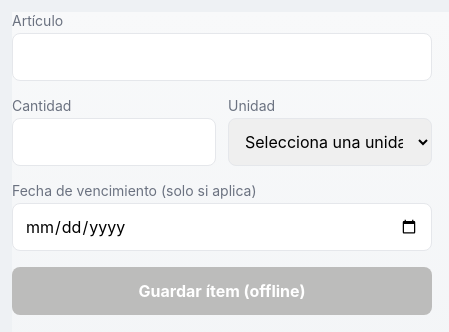
Test: ManualEntryForm › submit button is disabled until article, quantity and unit are filled
This screenshot has width=449, height=332.
Expected: the button "Guardar ítem (offline)" is disabled, [12, 267, 432, 315]
Type "Harina" into the field labelled "Artículo". click: [222, 57]
box: [12, 33, 432, 81]
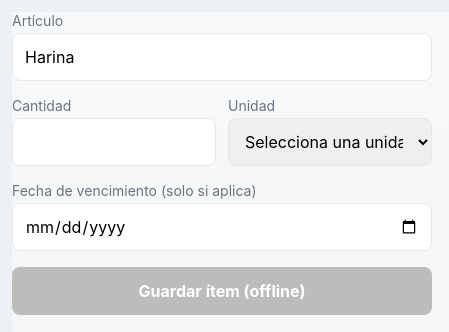
Type "20" into the number field labelled "Cantidad". click: [114, 142]
box: [12, 118, 216, 166]
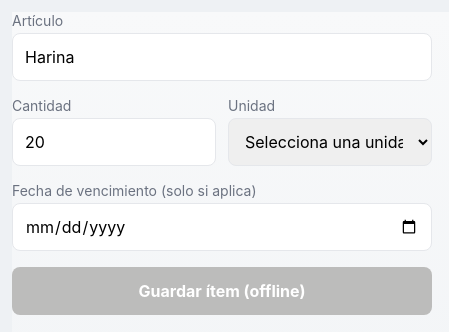
Select "Kilogramos (kg)" in the dropdown labelled "Unidad". click: [330, 142]
box: [228, 118, 432, 166]
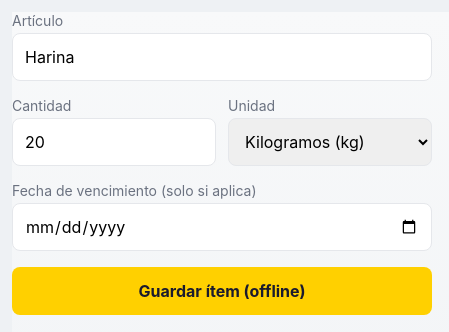
Expected: the button "Guardar ítem (offline)" is enabled, [12, 267, 432, 315]
